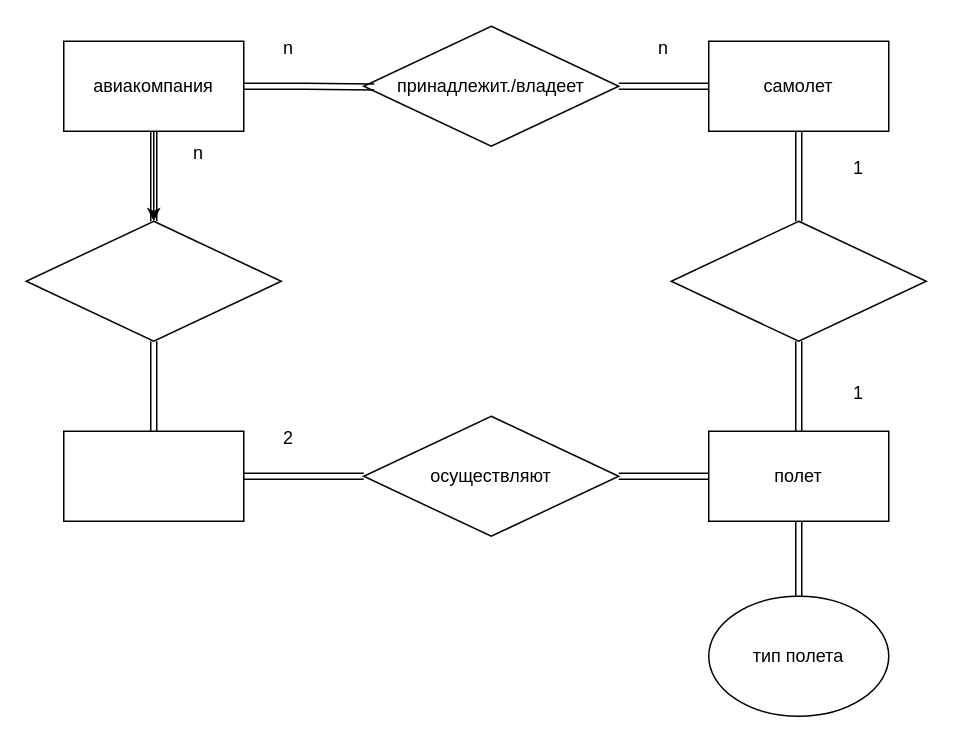
Image size: 953x743. Some labels were removed from this diagram. Each missing label, with the centre of its shape:
используется/осуществляется на: the point at 798,280
пилот: the point at 153,475
работает/работают: the point at 153,280
